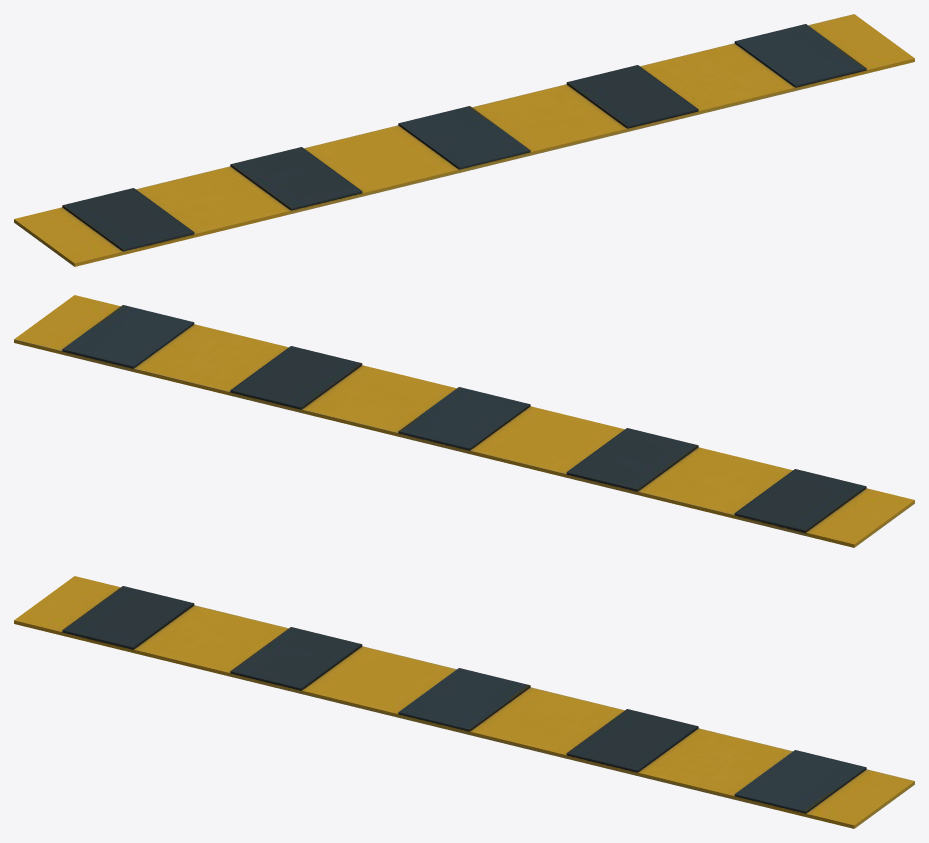
The model's file is safety_stripe.glb.
The picture shows the model from 3 angles, top to bottom: view 1: azimuth 30°, elevation 25°; view 2: azimuth 150°, elevation 25°; view 3: azimuth 330°, elevation 25°; orthographic projection.
Parts seen in each view (by area): view 1: body; view 2: body; view 3: body.
Part boxes in pixels (x1,y1,x2,y2): body: [14, 14, 914, 266]; body: [14, 295, 914, 547]; body: [14, 576, 914, 828].
Size of the model in its own units: 2 by 0.0125 by 0.25.
1 material, 1 textured.
